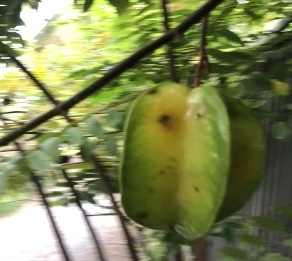Khe: (119, 79, 268, 243)
